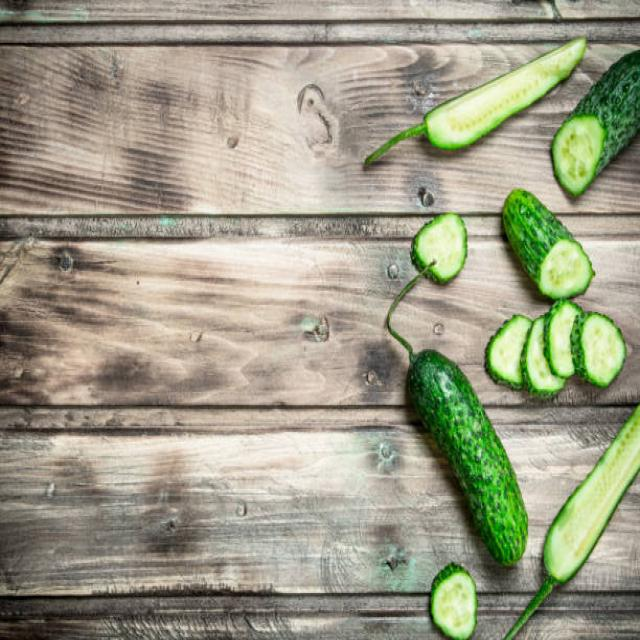cucumber: (406, 349, 530, 567), (553, 49, 640, 197), (502, 186, 593, 301)
